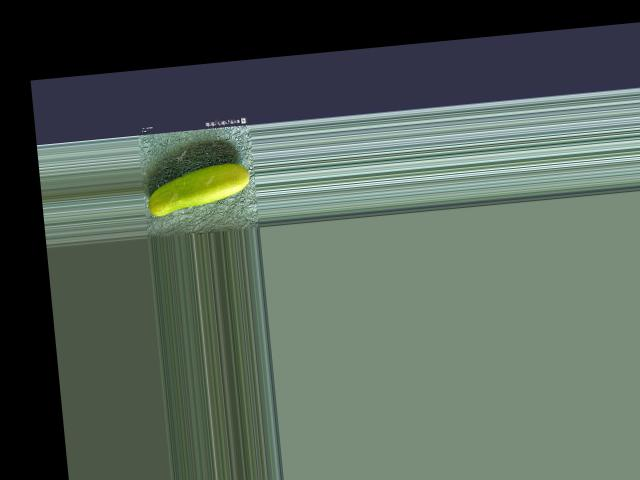cucumber: (144, 161, 252, 217)
